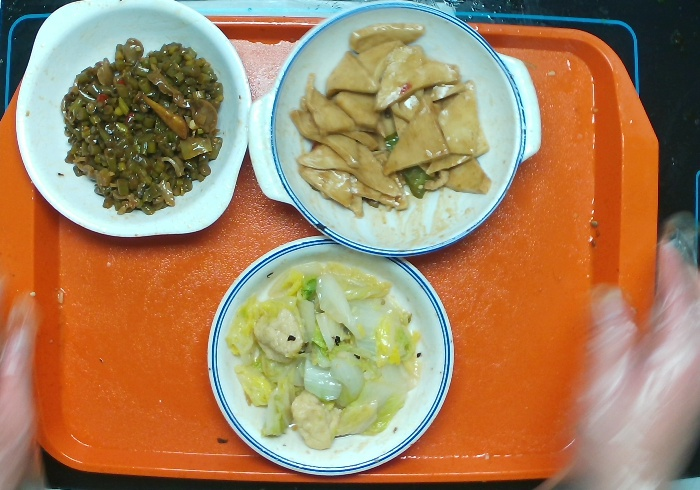HZYJPL-Dai_Er_Bai_Yuan_Wan: (11, 1, 257, 242)
HZYJPL-Lan_Bian_Dai_Er_Wan: (246, 1, 548, 261)
HZYJPL-Lan_Bian_Yuan_Die: (203, 231, 459, 481)
